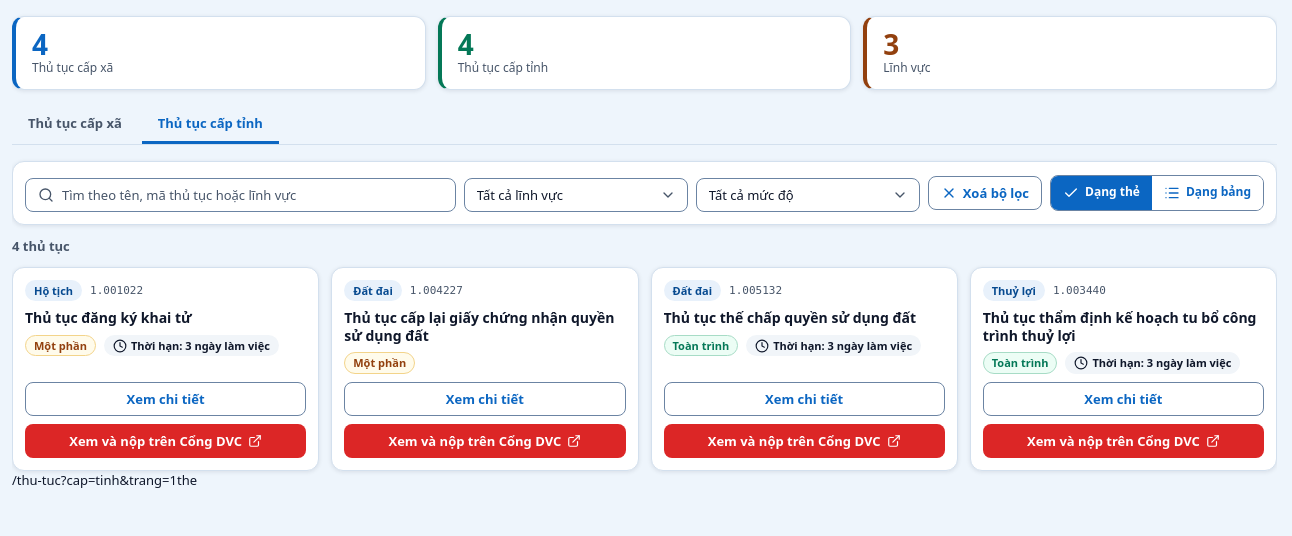
Test: DanhMuc — lọc (AC-1, AC-2, AC-3, AC-12, AC-17, AC-21) › AC-3: Cấp tỉnh + Đất đai + Một phần + "the chap" → "Xoá bộ lọc" về mặc định, giữ tab, bỏ trang
Expected: the button "Xoá bộ lọc" is shown, [928,176,1042,210]
Step 1. Select "Đất đai (2)" in the 1st dropdown named "Lĩnh vực" → (576, 195), box [464,178,688,212]
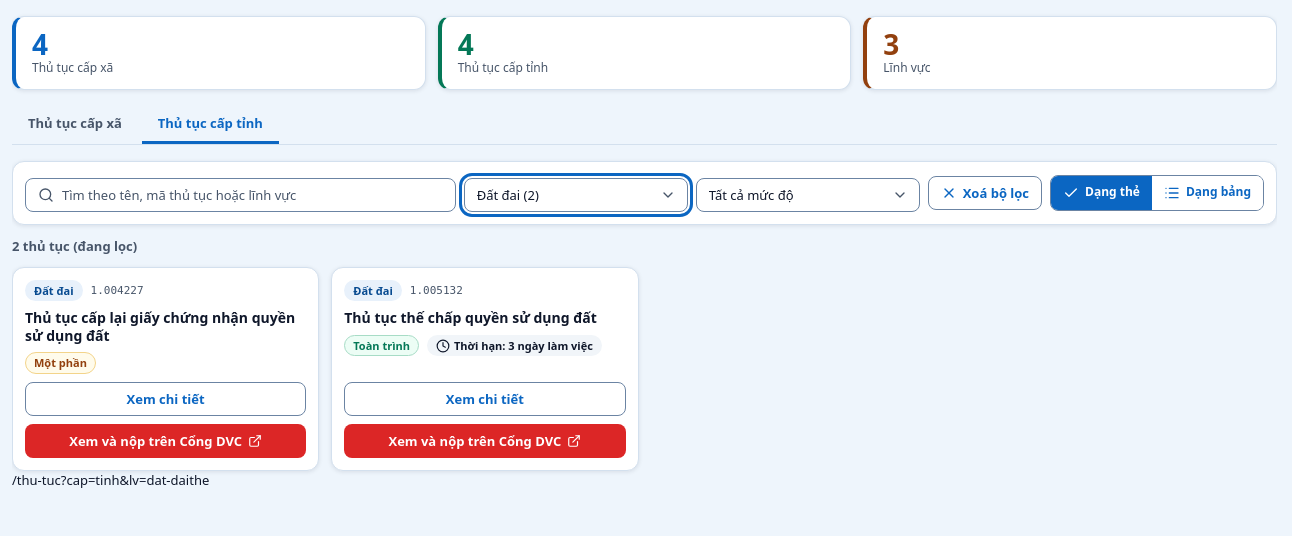
Step 2. Select "Một phần" in the 2nd dropdown named "Mức độ" → (808, 195), box [696,178,920,212]
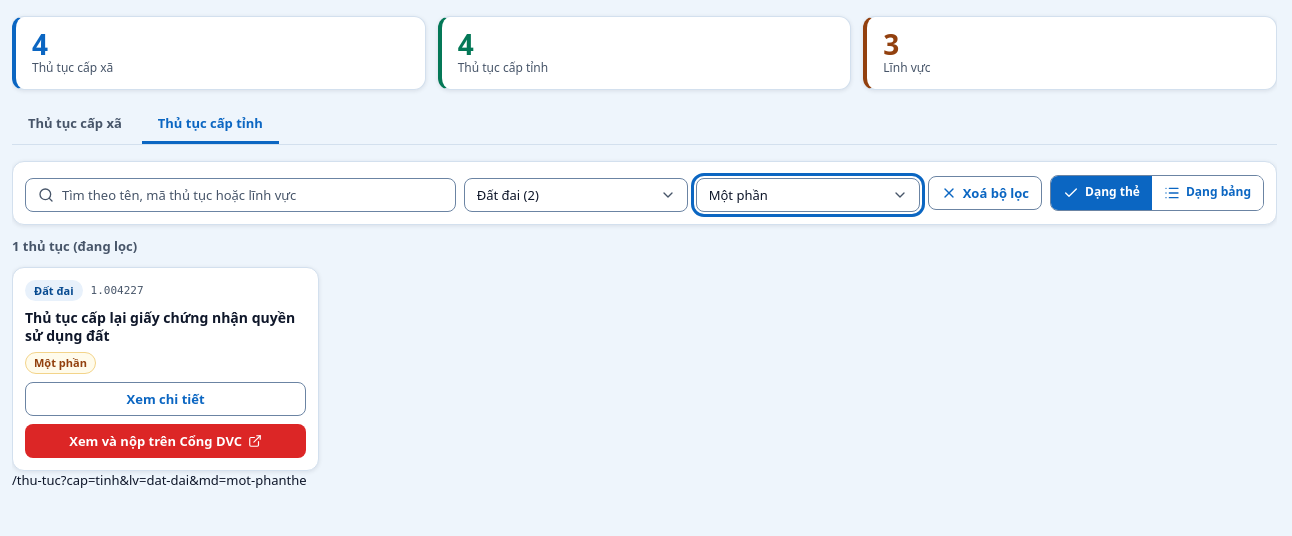
Step 3. Type "the chap" into the search field labelled "Tìm theo tên, mã thủ tục hoặc lĩnh vực" → (240, 195), box [26,179,455,211]
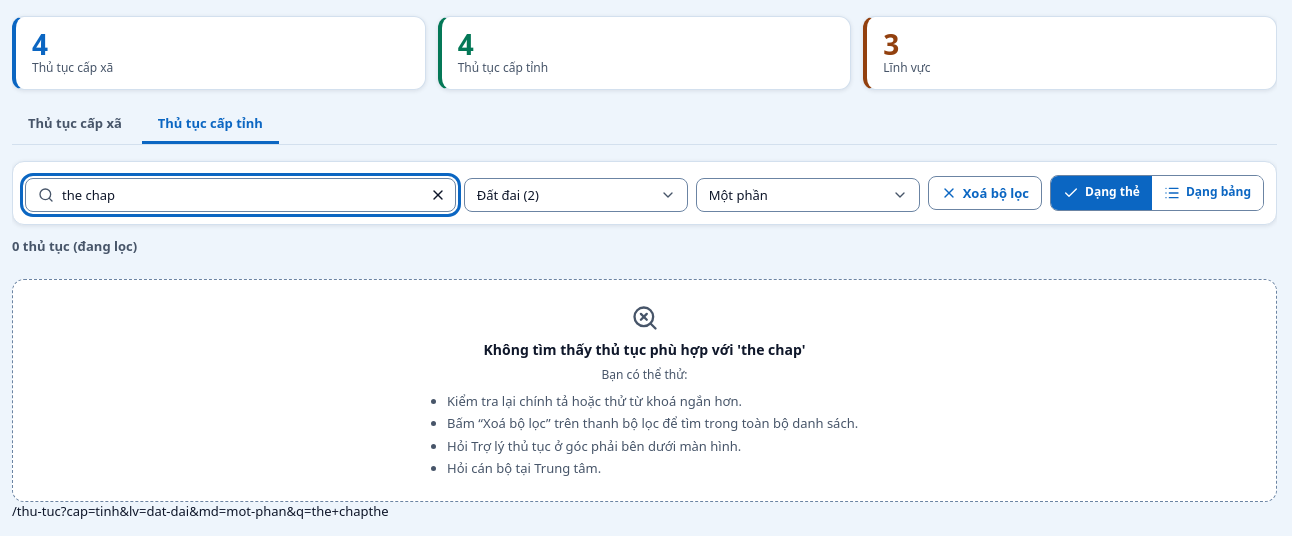
Step 4. Click the button "Xoá bộ lọc" → click(985, 193), box [928,176,1042,210]
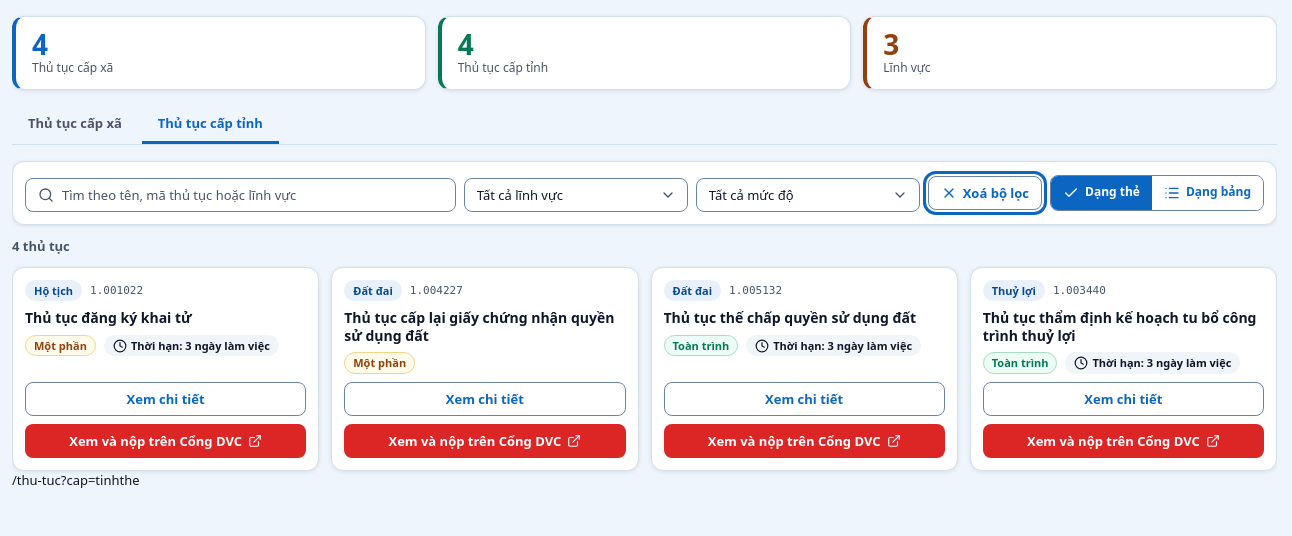
Result: the search field labelled "Tìm theo tên, mã thủ tục hoặc lĩnh vực" is empty at [26,179,455,211]
Result: the text "đang lọc" is gone
Result: the text "4 thủ tục" is shown at [12,237,70,255]
